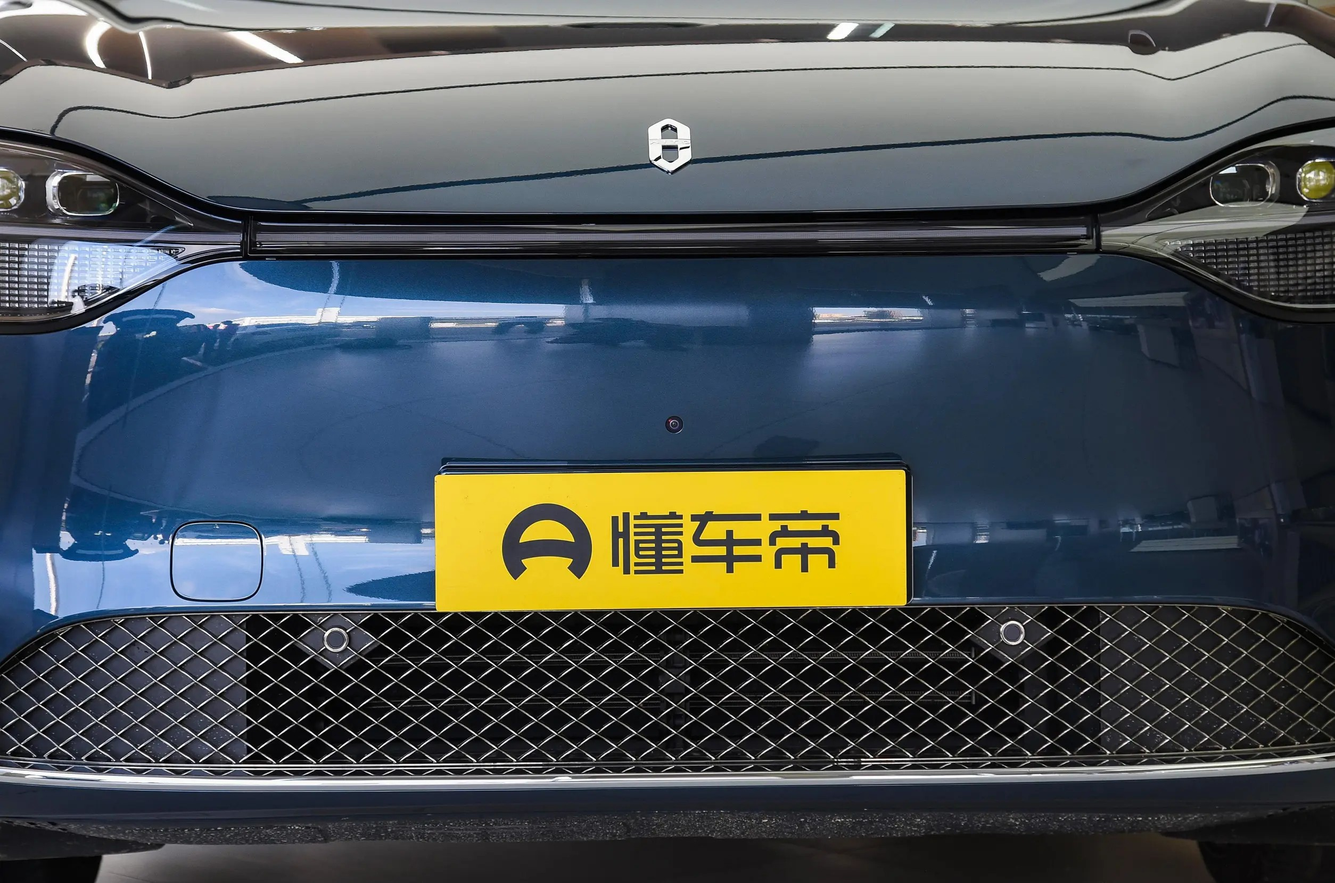AITO: (648, 119, 691, 172)
